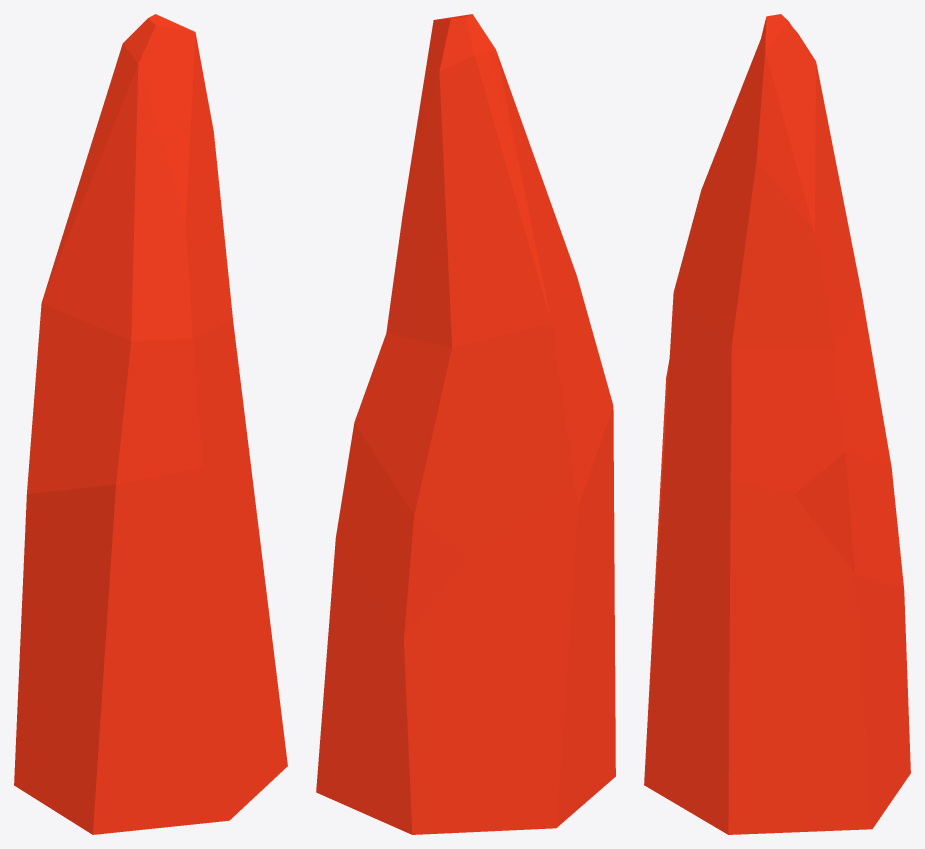
File: mining_PP_Crystal_Single_10_Red.gltf
3 renders of one model, left to right at view 1: azimuth 30°, elevation 25°; view 2: azimuth 150°, elevation 25°; view 3: azimuth 270°, elevation 25°, orthographic.
Visible parts, largest first — view 1: PP_Crystal_Single_10_Red; view 2: PP_Crystal_Single_10_Red; view 3: PP_Crystal_Single_10_Red.
Boxes of the visible parts, bbox=[...] form: PP_Crystal_Single_10_Red: bbox=[14, 14, 287, 834]; PP_Crystal_Single_10_Red: bbox=[316, 14, 615, 834]; PP_Crystal_Single_10_Red: bbox=[644, 14, 910, 834].
Size of the model in its own units: 0.18 by 0.5675 by 0.1791.
1 material, 1 textured.
